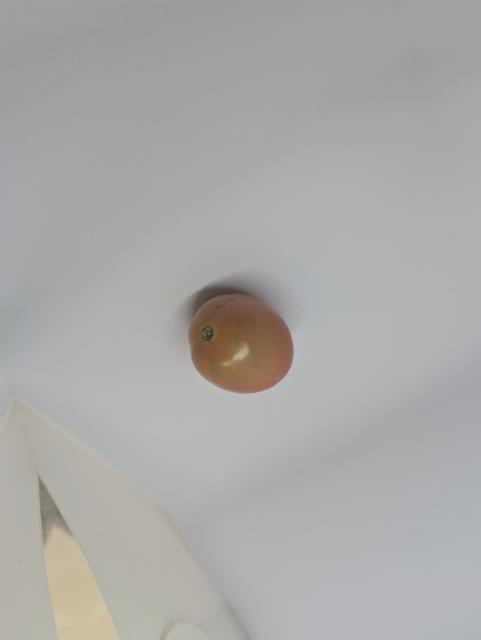turning: (181, 282, 304, 402)
